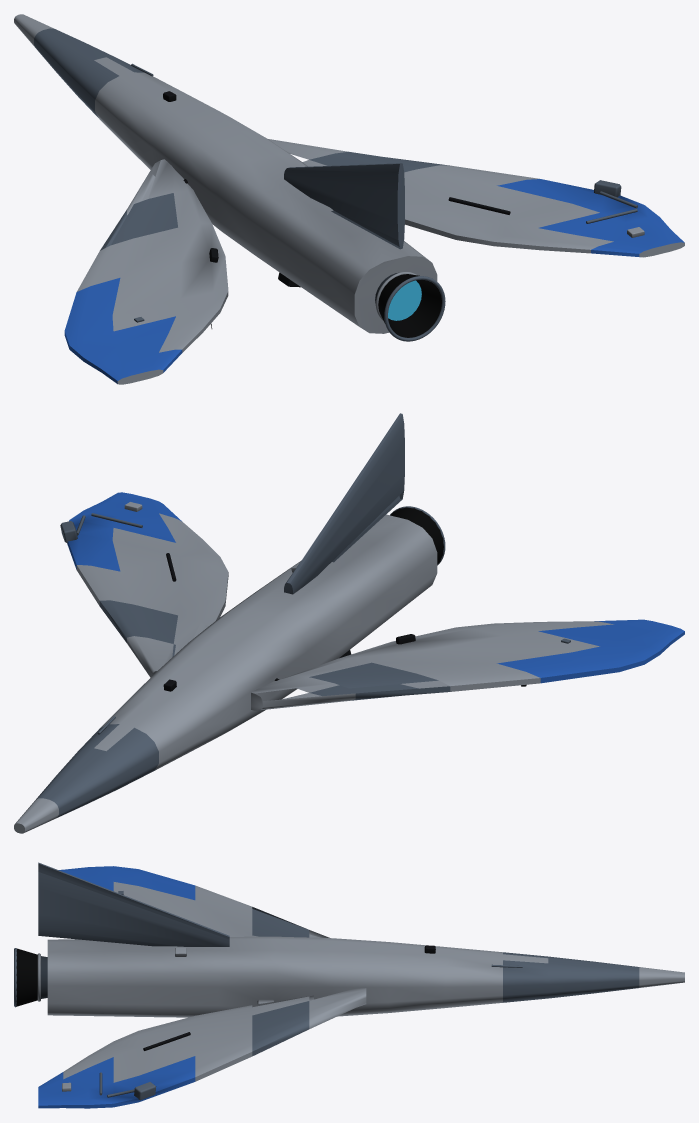
Rendered from dart-transformed.glb.
3 renders of one model, top to bottom at view 1: azimuth 30°, elevation 25°; view 2: azimuth 150°, elevation 25°; view 3: azimuth 270°, elevation 25°, orthographic. The views are drawn at different scales.
Visible parts, largest first — view 1: dart; view 2: dart; view 3: dart.
Boxes of the visible parts, <box> form: dart: <box>14,14,684,384</box>; dart: <box>14,413,684,833</box>; dart: <box>14,862,684,1108</box>.
Bounding box in the file's own units: 13.43 × 3.99 × 16.
